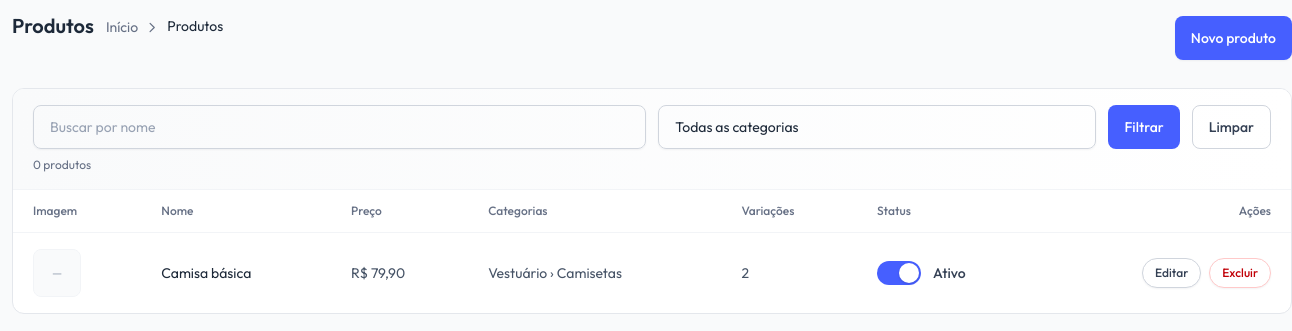
Test: ProductsList › toggles product active status and updates backend
Click the text "Ativo". click: (921, 273)
box: [877, 261, 966, 285]
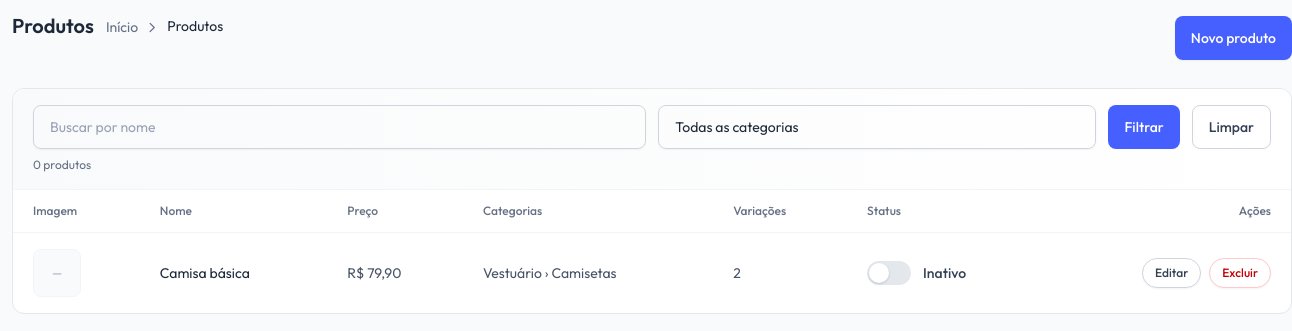
Expected: the text "Inativo" is shown, [867, 261, 966, 285]
